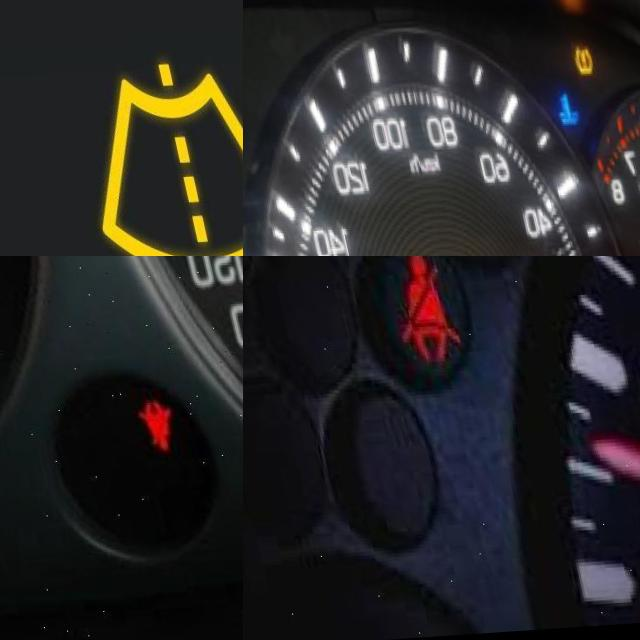Engine cooling system: (542, 92, 577, 140)
Seat Belt: (369, 256, 450, 371), (122, 399, 163, 462)
Washer Fluid: (58, 60, 243, 256)
